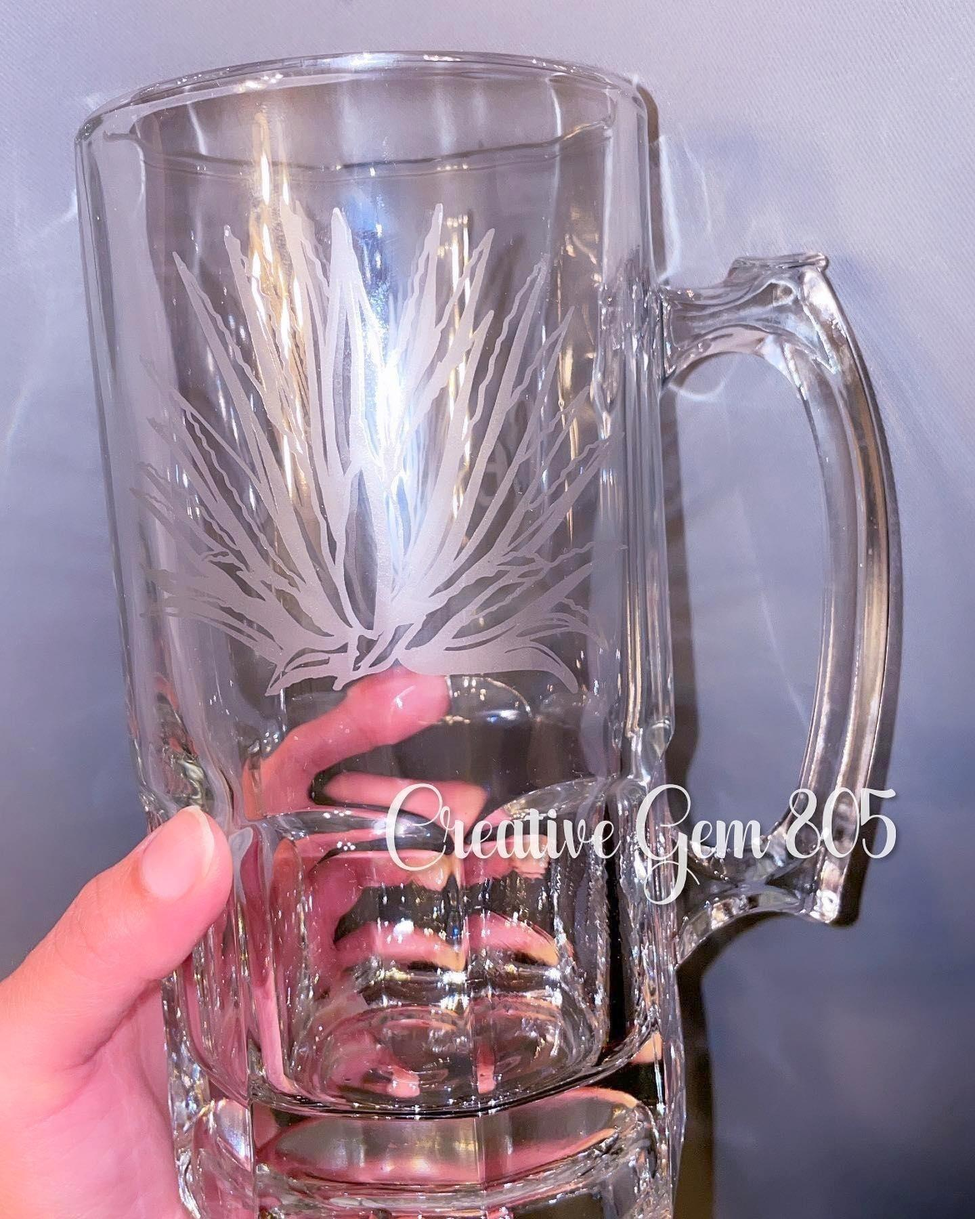glass-mug: (60, 38, 922, 1219)
